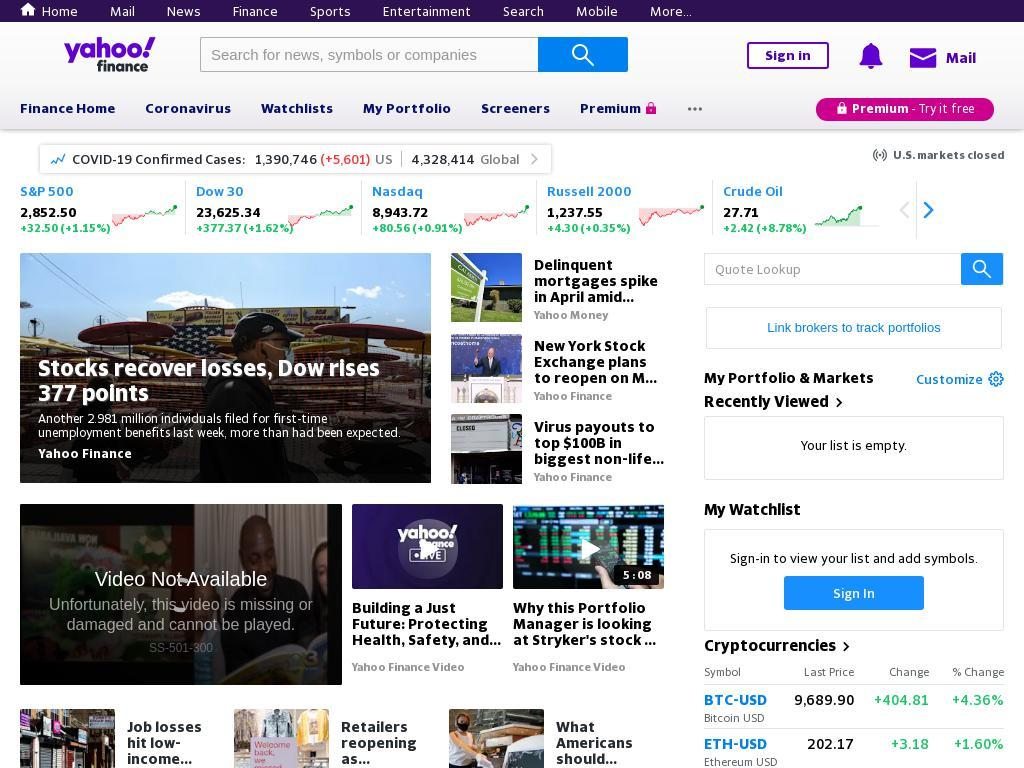button: (38, 356, 407, 484), (342, 503, 503, 687), (503, 503, 664, 687), (451, 252, 664, 323), (451, 333, 664, 403), (451, 414, 664, 484), (20, 145, 551, 173), (704, 304, 1004, 351), (448, 709, 664, 768), (20, 709, 235, 768), (234, 709, 449, 768), (784, 575, 924, 610), (297, 129, 414, 167), (816, 97, 994, 121), (20, 87, 115, 125), (363, 87, 451, 125), (145, 87, 231, 125), (64, 37, 156, 72), (538, 37, 628, 72), (704, 635, 856, 655), (704, 391, 849, 411), (580, 87, 656, 125), (261, 87, 333, 125), (520, 129, 591, 167), (481, 87, 550, 125), (908, 39, 976, 75), (747, 42, 829, 69), (145, 129, 202, 167), (444, 129, 490, 167), (961, 252, 1003, 285), (895, 179, 917, 240), (917, 179, 939, 240), (232, 129, 267, 167), (704, 690, 769, 709), (704, 734, 769, 753), (621, 129, 653, 167), (856, 39, 886, 75)
field: (200, 37, 538, 72), (704, 252, 1004, 285)
heading: (38, 356, 407, 407), (352, 599, 503, 648), (513, 599, 664, 648), (533, 256, 664, 305), (533, 337, 664, 386), (533, 418, 664, 467), (341, 719, 428, 768), (555, 719, 642, 768), (127, 719, 213, 768), (547, 182, 633, 199), (195, 203, 260, 220), (723, 182, 783, 199), (371, 203, 428, 220), (547, 203, 604, 220), (20, 203, 76, 220), (20, 182, 74, 199), (371, 182, 423, 199), (195, 182, 244, 199), (195, 220, 241, 234), (723, 203, 759, 220), (247, 220, 289, 234), (416, 220, 458, 234), (585, 220, 627, 234), (65, 220, 106, 234), (761, 220, 802, 234), (371, 220, 410, 234), (20, 220, 58, 234), (547, 220, 579, 234), (723, 220, 754, 234), (242, 220, 248, 234), (411, 220, 417, 234), (580, 220, 586, 234), (60, 220, 65, 234), (288, 220, 293, 234), (457, 220, 462, 234), (626, 220, 631, 234), (756, 220, 761, 234), (106, 220, 110, 234), (802, 220, 806, 234)
image: (20, 252, 432, 484), (20, 503, 342, 686), (352, 503, 503, 589), (513, 503, 664, 589), (234, 709, 330, 768), (448, 709, 544, 768), (20, 709, 115, 768), (451, 252, 522, 323), (451, 333, 522, 404), (451, 414, 522, 485), (397, 519, 458, 580), (558, 519, 619, 580), (151, 564, 211, 625), (889, 194, 919, 225), (913, 194, 943, 225), (908, 43, 938, 73), (858, 43, 884, 69), (571, 42, 595, 67), (524, 148, 544, 169), (972, 258, 992, 279), (687, 100, 703, 117), (50, 150, 66, 167), (872, 146, 888, 163), (988, 371, 1004, 388), (831, 394, 847, 411), (838, 638, 854, 655), (20, 1, 36, 17), (836, 102, 848, 115), (646, 102, 656, 115)
link: (38, 440, 407, 484), (38, 406, 407, 441), (352, 647, 503, 673), (513, 647, 664, 673), (451, 307, 664, 322), (451, 388, 664, 403), (451, 469, 664, 484), (383, 3, 471, 19), (233, 3, 278, 19), (576, 3, 618, 19), (650, 3, 692, 19), (310, 3, 351, 19), (503, 3, 544, 19), (167, 3, 201, 19), (110, 3, 135, 19)
text: (37, 594, 325, 635), (20, 567, 342, 592), (20, 640, 342, 657), (730, 549, 978, 566), (704, 368, 874, 386), (767, 319, 942, 335), (704, 635, 836, 654), (704, 391, 829, 410), (704, 499, 801, 518), (135, 150, 242, 167), (801, 436, 907, 453), (908, 46, 976, 70), (893, 147, 1004, 161), (704, 752, 777, 768), (916, 370, 983, 387), (411, 150, 475, 167), (794, 690, 854, 708), (908, 101, 974, 117), (255, 150, 317, 167), (72, 150, 132, 167), (704, 708, 764, 725), (874, 690, 929, 708), (580, 100, 641, 116), (614, 564, 659, 585), (952, 690, 1004, 708), (954, 734, 1004, 752), (852, 101, 908, 117), (807, 734, 854, 752), (765, 47, 811, 63), (952, 664, 1004, 678), (804, 664, 854, 678), (891, 734, 929, 752), (480, 150, 519, 167), (42, 3, 78, 19), (333, 150, 366, 167), (889, 664, 929, 678), (704, 664, 741, 678), (370, 150, 393, 167), (320, 150, 333, 167), (366, 150, 370, 167), (242, 150, 245, 167)
